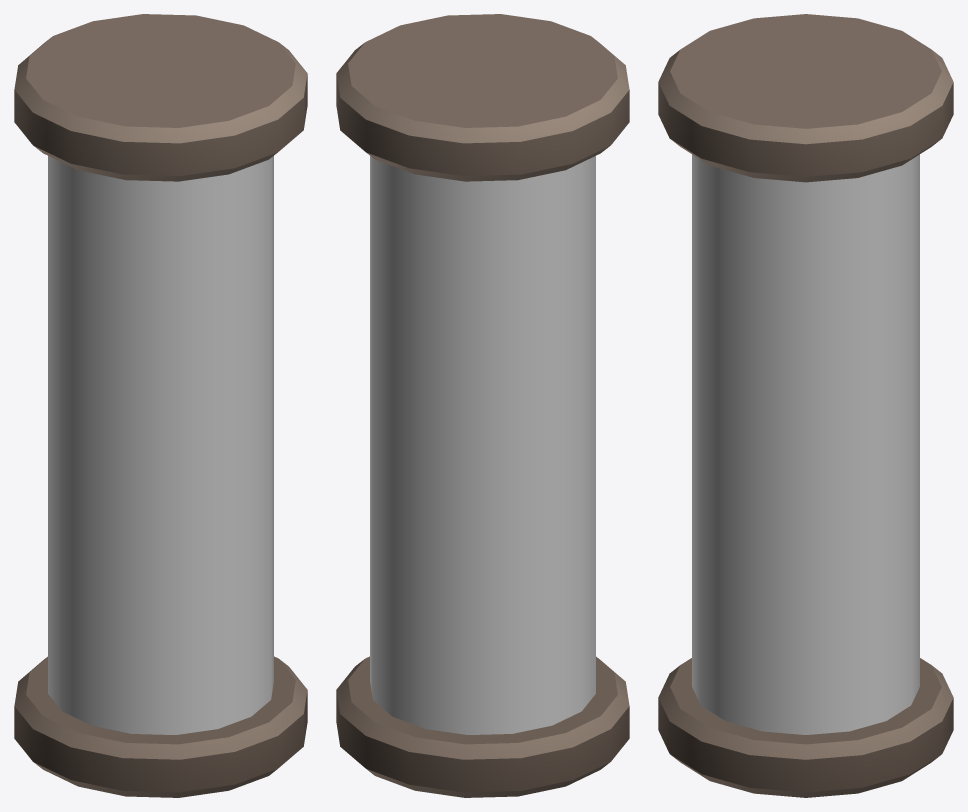
Rendered from hourglass.glb.
The picture shows the model from 3 angles, left to right: view 1: azimuth 30°, elevation 25°; view 2: azimuth 150°, elevation 25°; view 3: azimuth 270°, elevation 25°; orthographic projection.
Visible parts, largest first — view 1: hourglass; view 2: hourglass; view 3: hourglass.
Part boxes in pixels (left/top/right/bottom): hourglass: left=14, top=14, right=307, bottom=797; hourglass: left=336, top=14, right=629, bottom=797; hourglass: left=658, top=14, right=953, bottom=797.
Size of the model in its own units: 1 by 2.5 by 1.
2 materials, 1 textured.
